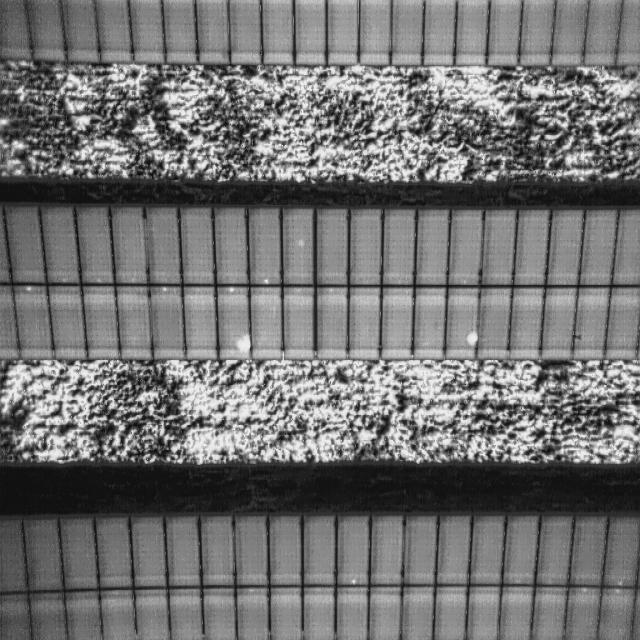hotspot: (232, 313, 252, 358), (467, 330, 478, 346)
